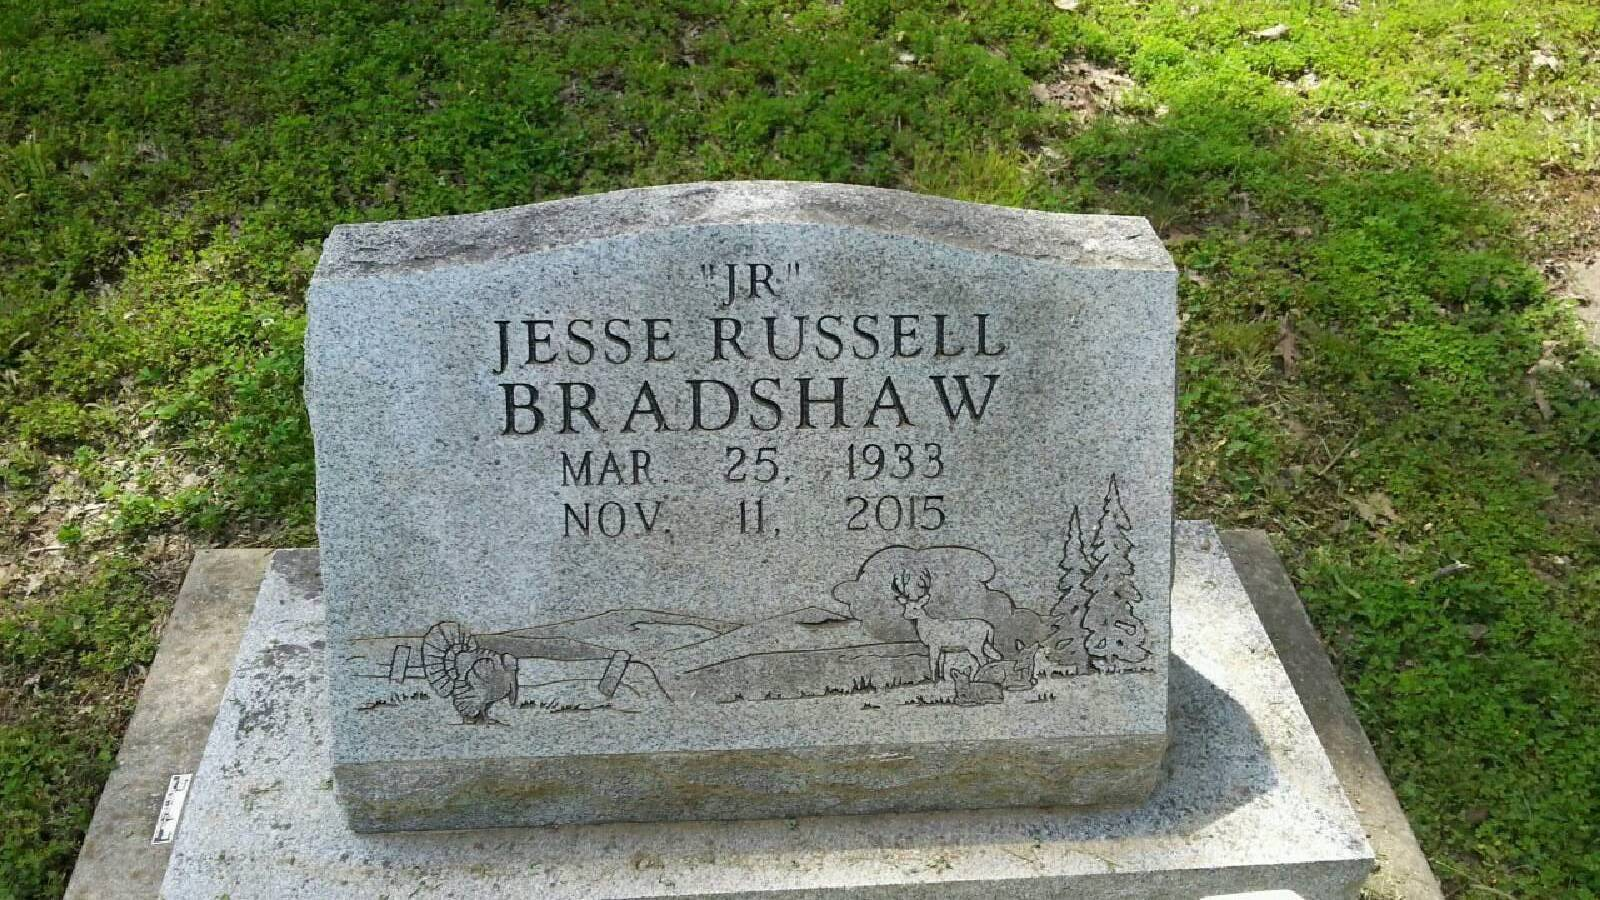upright: (63, 167, 1456, 892)
